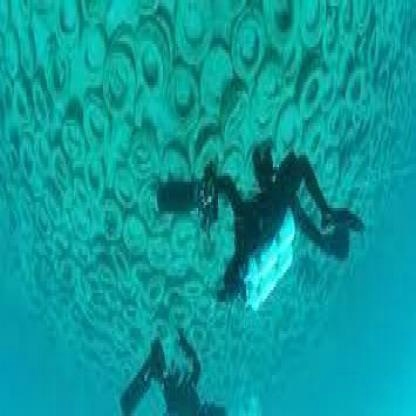tire: (1, 6, 151, 290), (155, 3, 409, 138)
